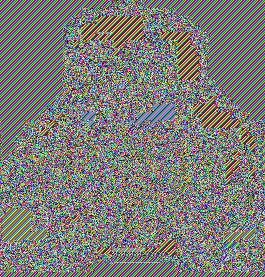

This screenshot's page, from the dashboard's own definition file:
{"tool":"powerbi","page":{"name":"Page 1","canvas":[1280,720],"ordinal":0},"visuals":[{"type":"clusteredColumnChart","fields":{"Category":["students_adaptability_level_onl.Age"],"Y":["students_adaptability_level_onl.IT Student"],"Series":["students_adaptability_level_onl.Adaptivity Level"]},"box":[0,0,610.6,397.9],"z":0},{"type":"clusteredColumnChart","fields":{"Series":["students_adaptability_level_onl.Adaptivity Level"],"Category":["students_adaptability_level_onl.Gender"],"Y":["students_adaptability_level_onl.IT Student"]},"box":[0,408,611,312],"z":1000},{"type":"clusteredColumnChart","fields":{"Series":["students_adaptability_level_onl.Adaptivity Level"],"Category":["students_adaptability_level_onl.Education Level"],"Y":["students_adaptability_level_onl.IT Student"]},"box":[621,0,611,398],"z":2000},{"type":"columnChart","fields":{"Category":["students_adaptability_level_onl.Internet Type"],"Series":["students_adaptability_level_onl.Adaptivity Level"],"Y":["students_adaptability_level_onl.IT Student"]},"box":[621,408,611,312],"z":3000}]}

Visuals, with their boxes on the page's 1280x720 design canvas (x1, y1, x2, y2). These are canvas units, not pixel positions in the 265x277 screenshot, which may show the page scaled, cropped or inside an application window:
clusteredColumnChart - students_adaptability_level_onl.Age x students_adaptability_level_onl.IT Student: 0, 0, 611, 398
clusteredColumnChart - students_adaptability_level_onl.Adaptivity Level x students_adaptability_level_onl.Gender: 0, 408, 611, 720
clusteredColumnChart - students_adaptability_level_onl.Adaptivity Level x students_adaptability_level_onl.Education Level: 621, 0, 1232, 398
columnChart - students_adaptability_level_onl.Internet Type x students_adaptability_level_onl.Adaptivity Level: 621, 408, 1232, 720
